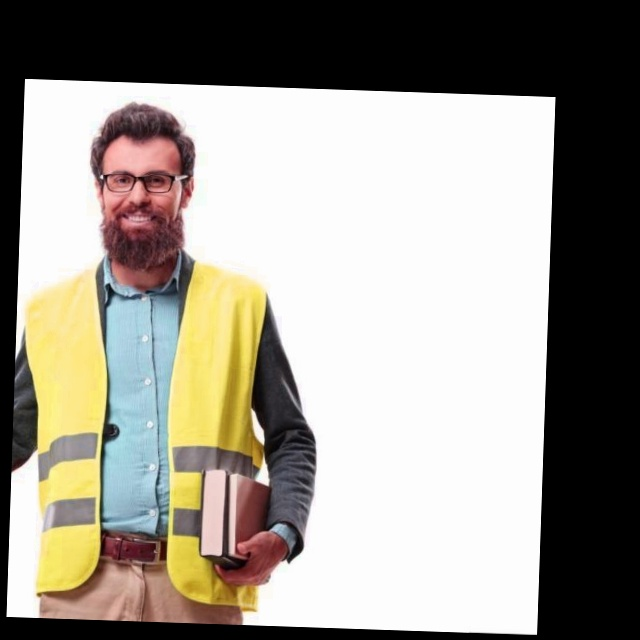Con_Chaleco: (20, 256, 274, 578)
Sin_Casco_Mascarrilla: (86, 100, 203, 265)
